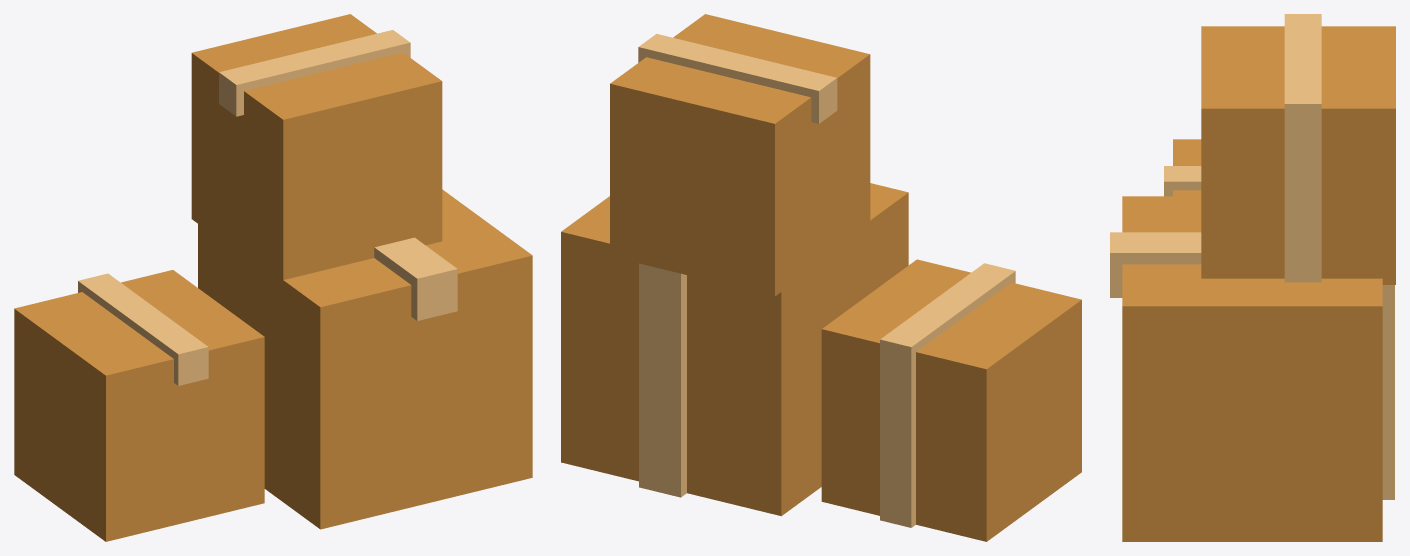
File: boxes.fbx
3 renders of one model, left to right at view 1: azimuth 30°, elevation 25°; view 2: azimuth 150°, elevation 25°; view 3: azimuth 270°, elevation 25°, orthographic. The views are drawn at different scales.
Visible parts, largest first — view 1: Node.005; view 2: Node.005; view 3: Node.005.
Part boxes in pixels (bbox=[...]): Node.005: bbox=[14, 14, 532, 541]; Node.005: bbox=[561, 14, 1081, 541]; Node.005: bbox=[1110, 14, 1395, 541].
Size of the model in its own units: 25.36 by 23.48 by 14.68.
